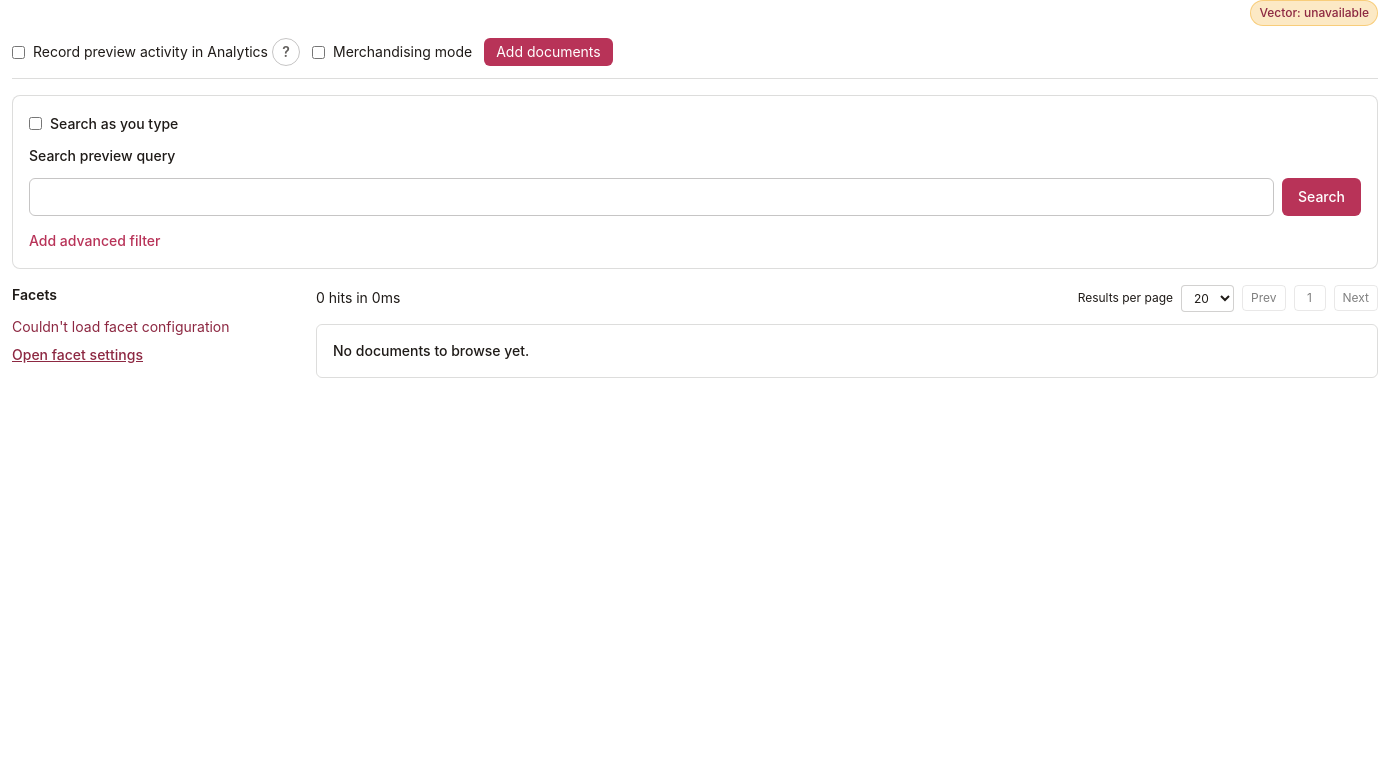
Test: InstantSearch layout › preserves results while a replacement search is loading
This screenshot has width=1390, height=768.
Type "rust" into the search field labelled "Search preview query". click: {"x": 652, "y": 196}
box: [29,178,1274,216]
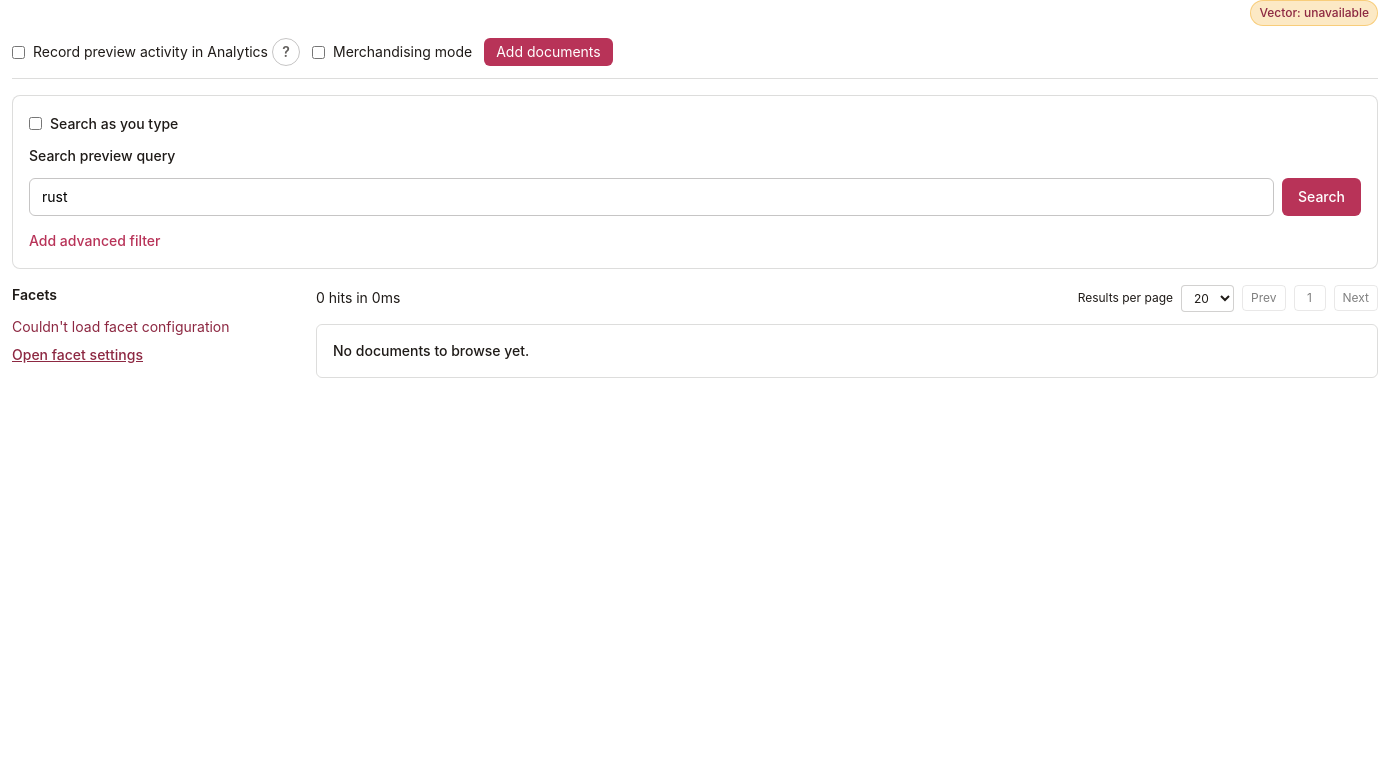
Press Enter in the search field labelled "Search preview query", box [29,178,1274,216]
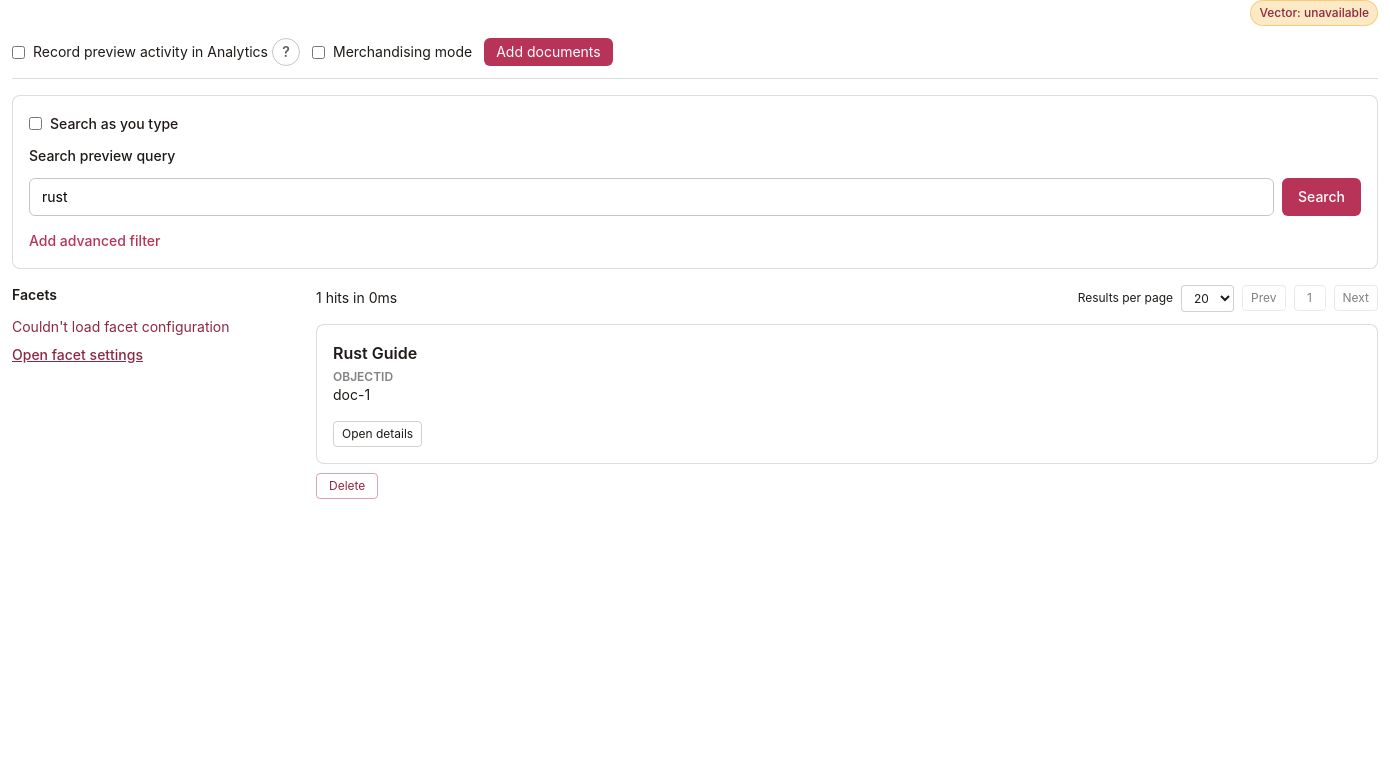
Now the text "Rust Guide" is shown, box [333,342,417,362]
Replace the text in the search field labelled "Search preview query" with "systems". click: {"x": 652, "y": 196}
box: [29,178,1274,216]
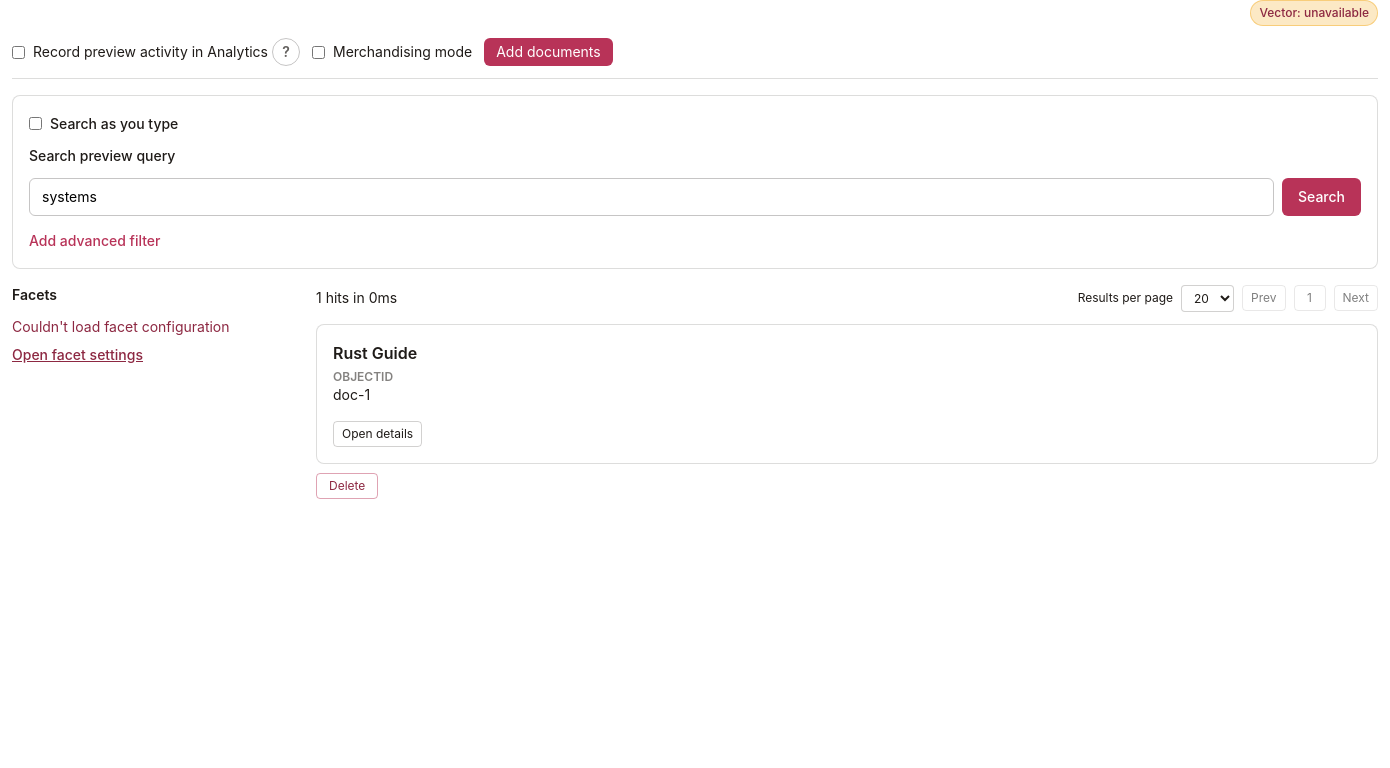
Press Enter in the search field labelled "Search preview query", box [29,178,1274,216]
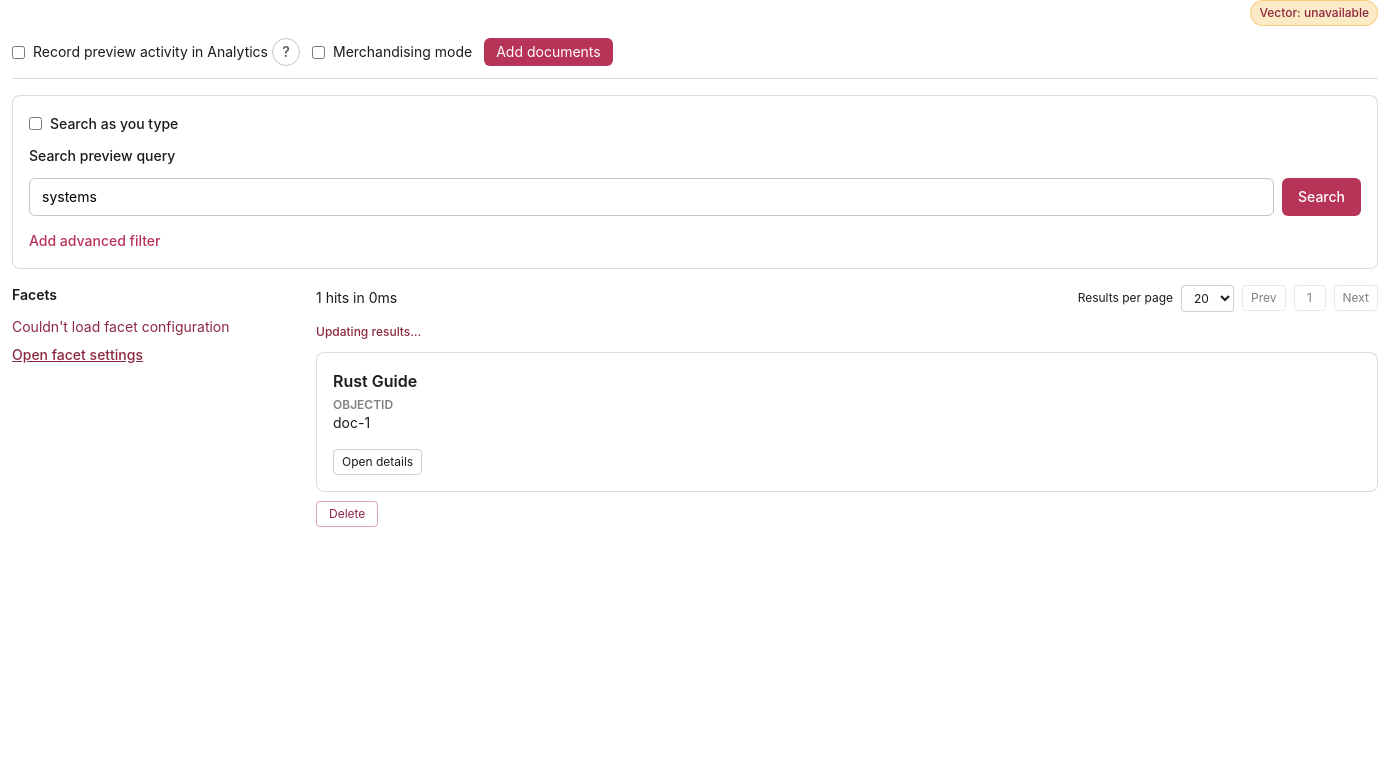
Now the text "Rust Guide" is shown, box [333,370,417,390]
Now the message shows "Updating results", box [316,324,421,338]
